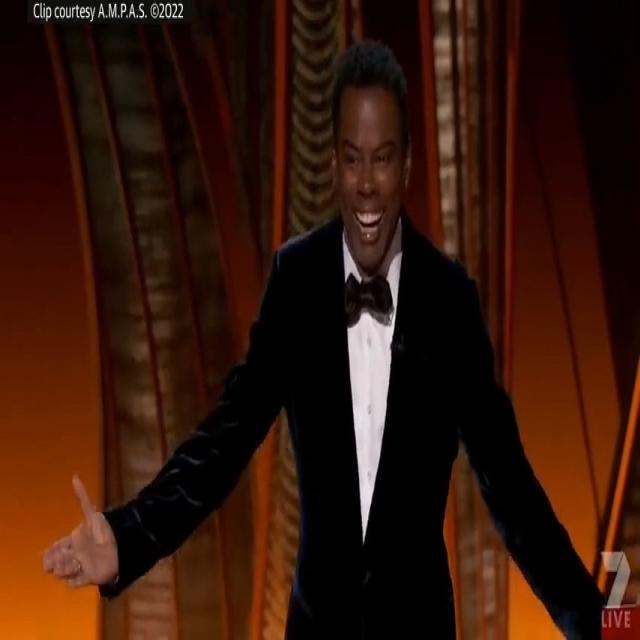non-fight: (39, 28, 635, 640)
